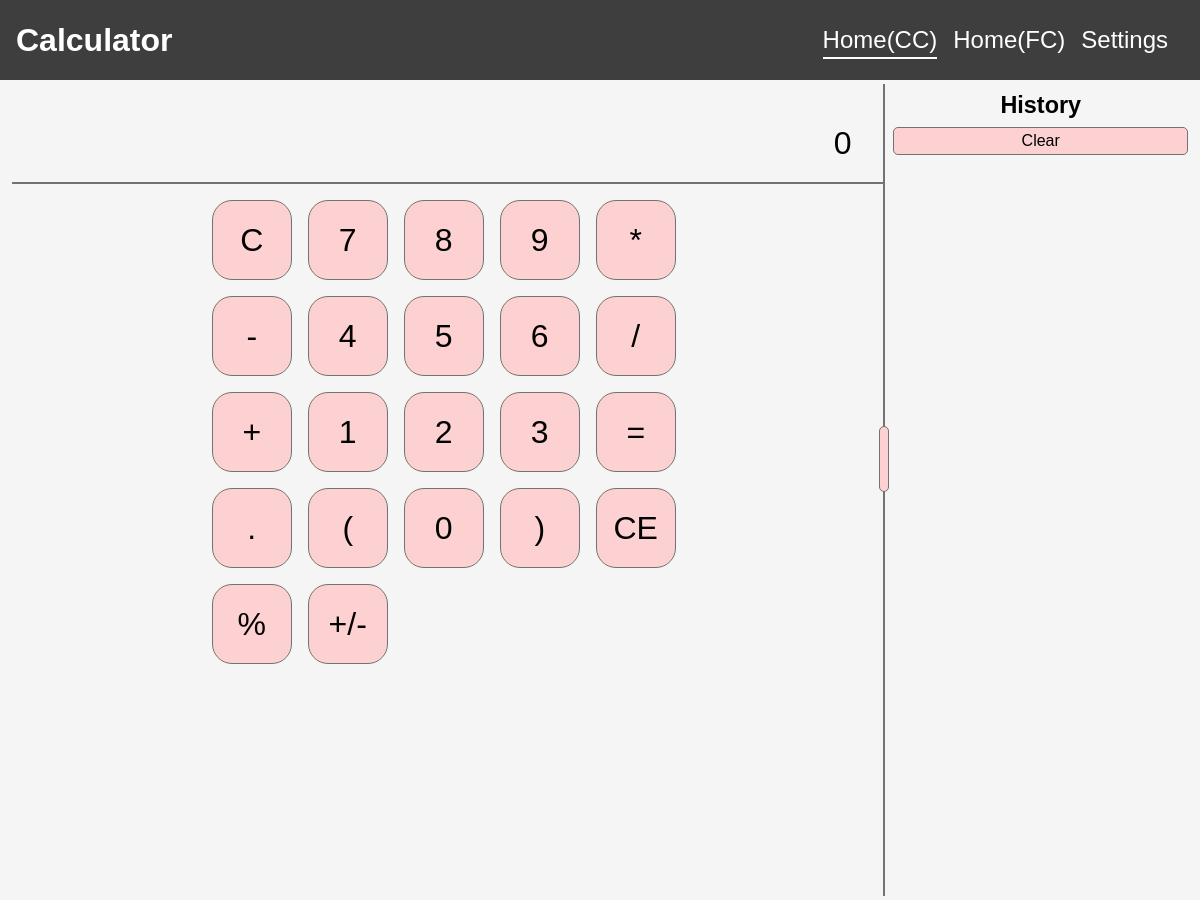
Display › should render new values with operand
Click the button with test id "button-8" at point(444, 240), box [404,200,484,280]
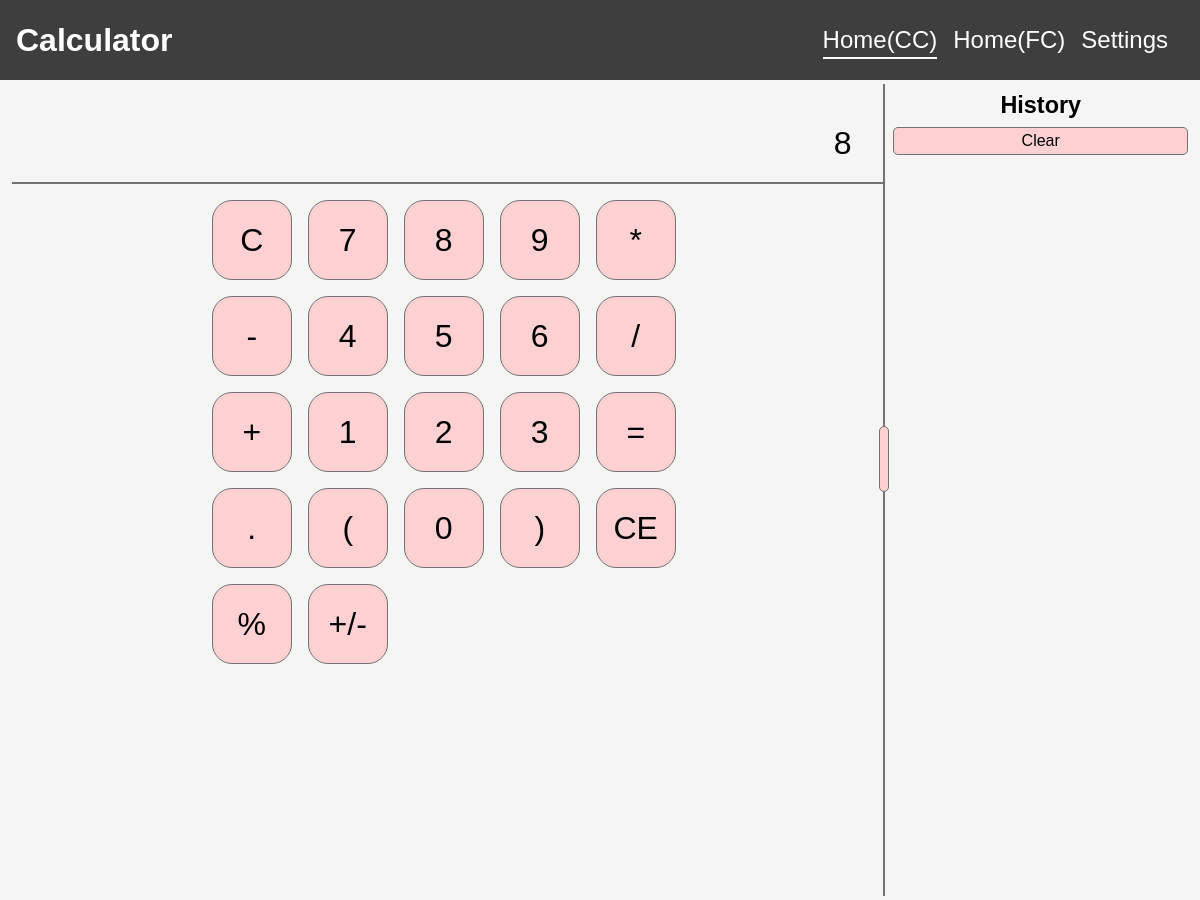
Check: the text with test id "display-value" reads "8", box [834,125,852,157]
Click the button with test id "button-+" at point(252, 432), box [212,392,292,472]
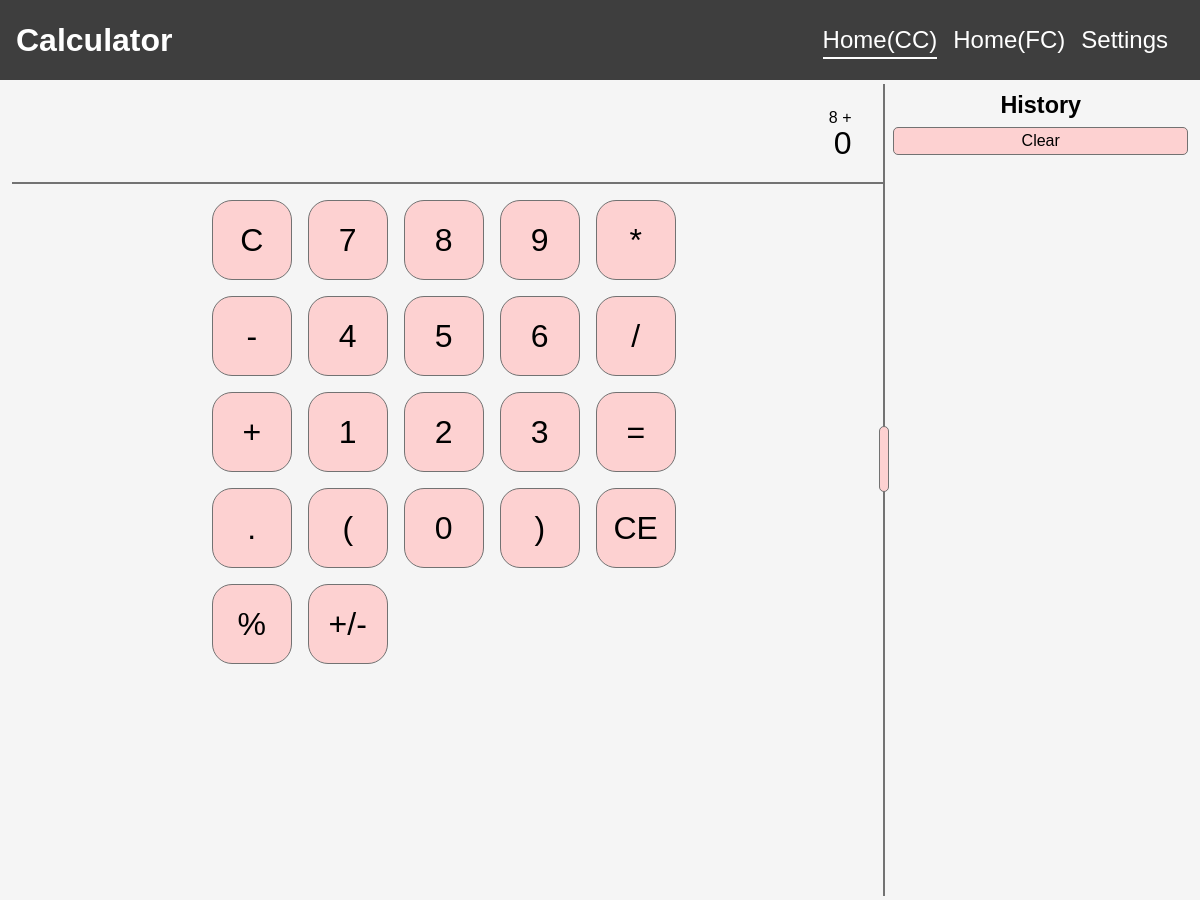
Check: the text with test id "display-expression" reads "8 +", box [829,109,852,125]
Check: the text with test id "display-value" reads "0", box [834,125,852,157]
